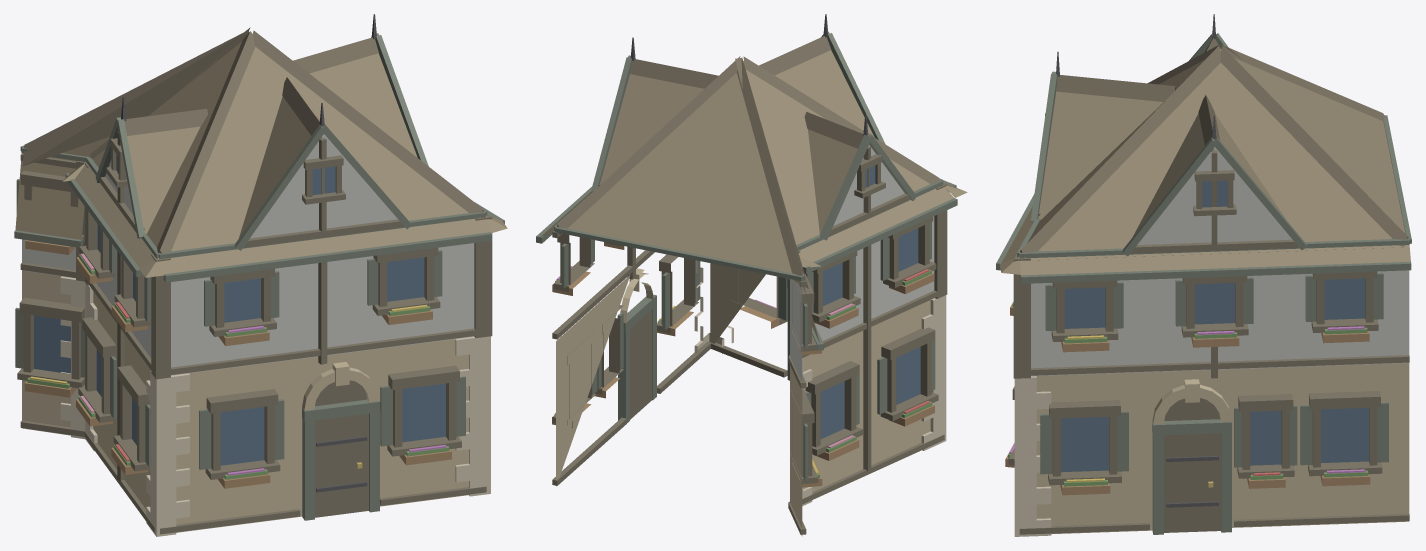
The picture shows the model from 3 angles, left to right: view 1: azimuth 30°, elevation 25°; view 2: azimuth 150°, elevation 25°; view 3: azimuth 270°, elevation 25°; orthographic projection. The views are drawn at different scales.
Visible parts, largest first — view 1: B107_visible; view 2: B107_visible; view 3: B107_visible.
Boxes of the visible parts, left/top/right/bottom form: B107_visible: left=14, top=14, right=507, bottom=536; B107_visible: left=536, top=14, right=967, bottom=536; B107_visible: left=996, top=14, right=1411, bottom=536.
Bounding box in the file's own units: 7.95 × 9.74 × 8.65.
